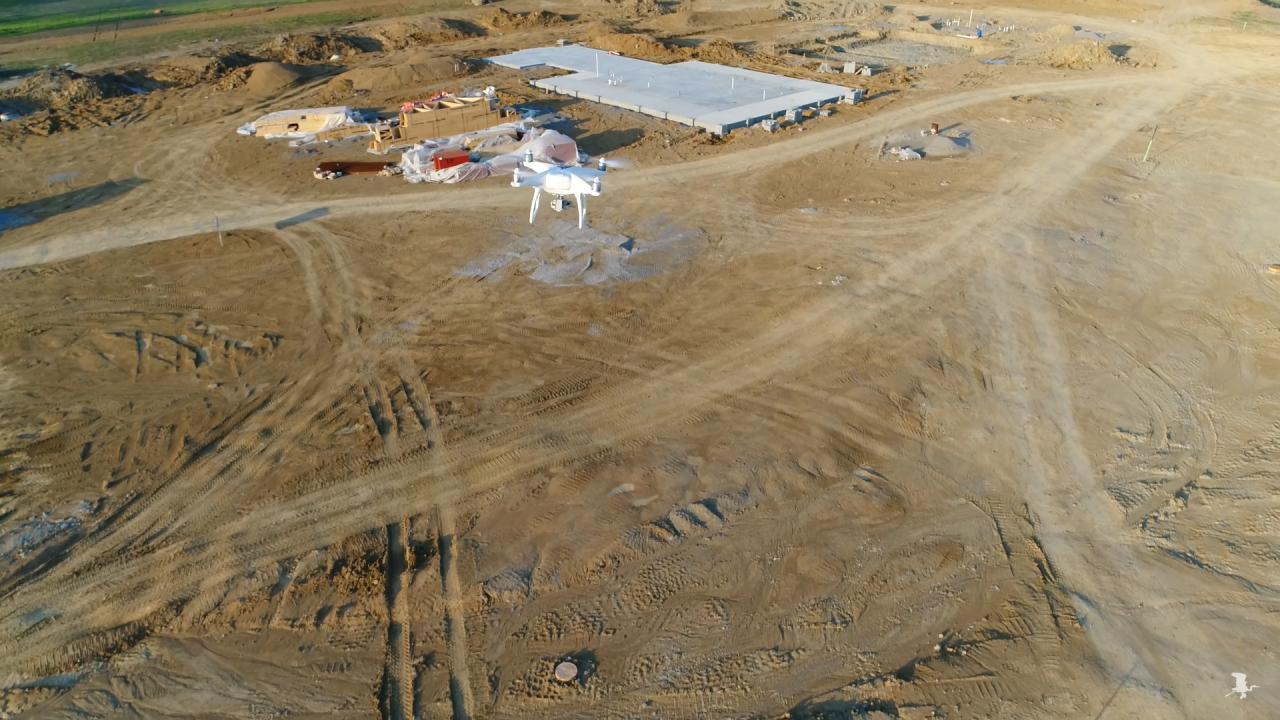Drone: (495, 147, 638, 236)
